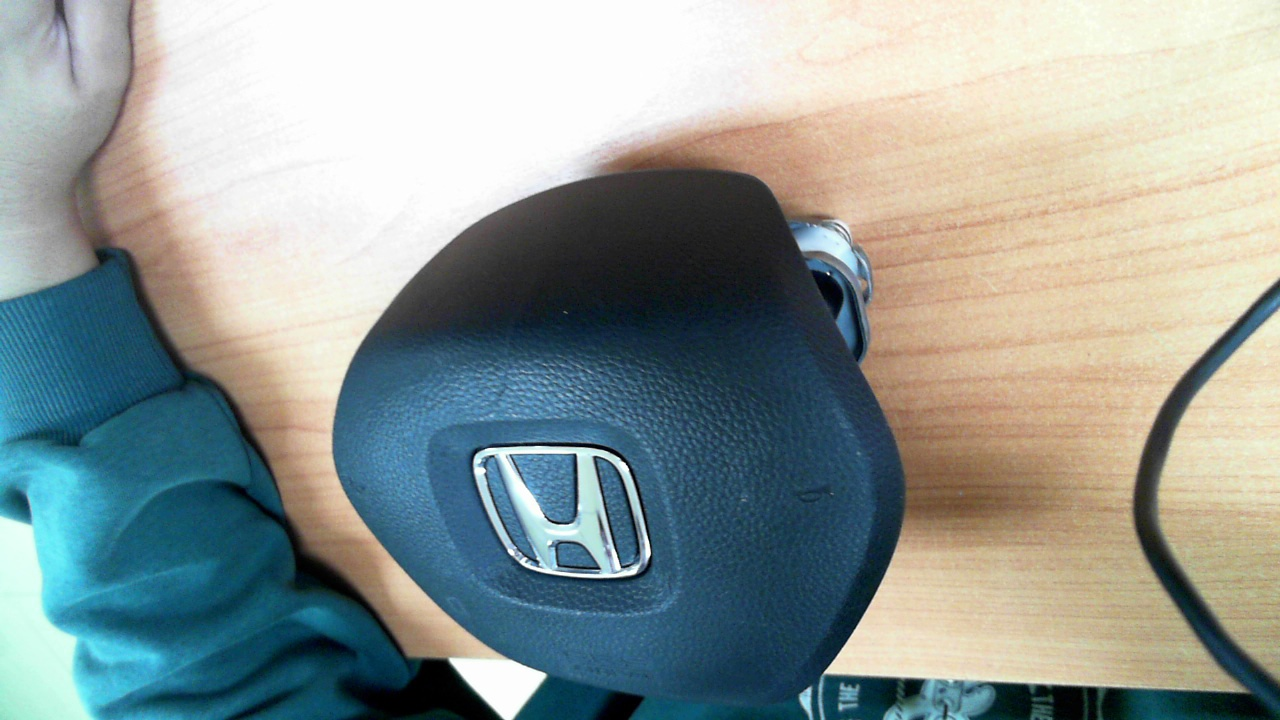Airbag: (330, 167, 907, 705)
Honda: (473, 442, 652, 579)
